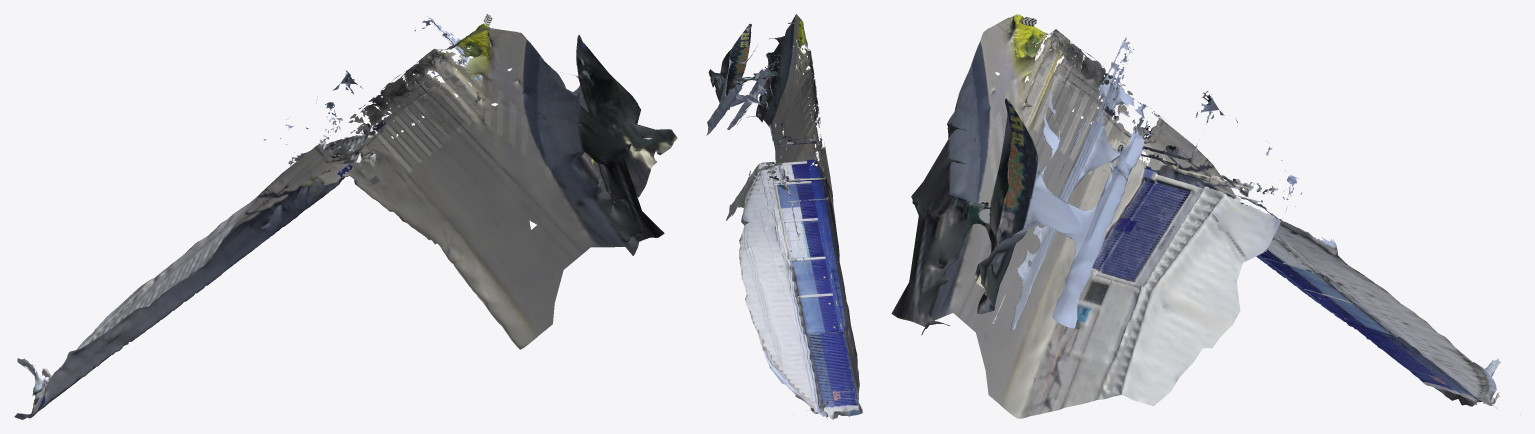
File: Model_update.fbx
The picture shows the model from 3 angles, left to right: view 1: azimuth 30°, elevation 25°; view 2: azimuth 150°, elevation 25°; view 3: azimuth 270°, elevation 25°; orthographic projection. The views are drawn at different scales.
Visible parts, largest first — view 1: 3DModel; view 2: 3DModel; view 3: 3DModel.
Part boxes in pixels (x1,y1,x2,y2): 3DModel: (14,14,677,419); 3DModel: (706,14,862,419); 3DModel: (891,14,1520,418).
Bounding box in the file's own units: 687 × 663 × 707.
1 material, 1 textured.
